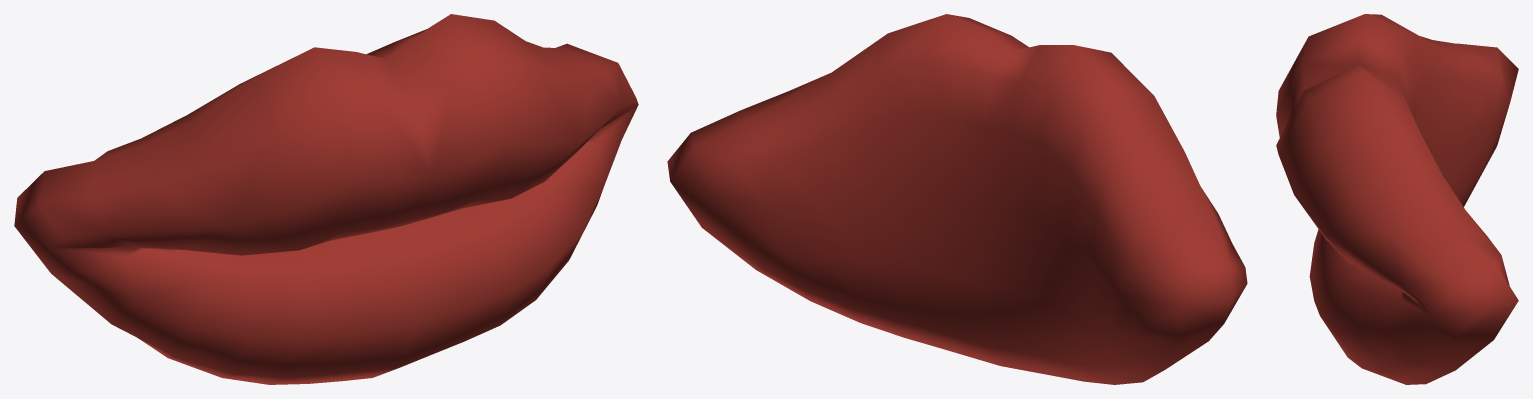
Rendered from Lips.fbx.
The picture shows the model from 3 angles, left to right: view 1: azimuth 30°, elevation 25°; view 2: azimuth 150°, elevation 25°; view 3: azimuth 270°, elevation 25°; orthographic projection. The views are drawn at different scales.
Visible parts, largest first — view 1: lipstick_lips; view 2: lipstick_lips; view 3: lipstick_lips.
Part boxes in pixels (box(x1,y1,x2,y2)): lipstick_lips: box(14, 14, 638, 384); lipstick_lips: box(667, 14, 1247, 384); lipstick_lips: box(1276, 14, 1518, 384).
Size of the model in its own units: 0.3281 by 0.1832 by 0.1321.
